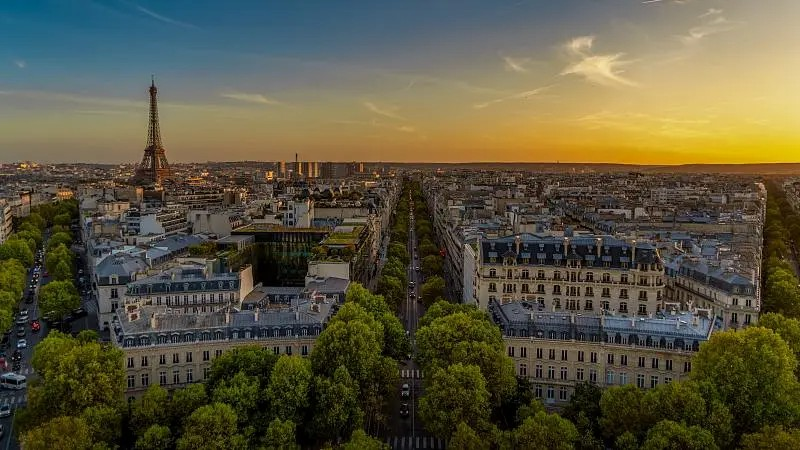Eiffel: (130, 75, 177, 182)
